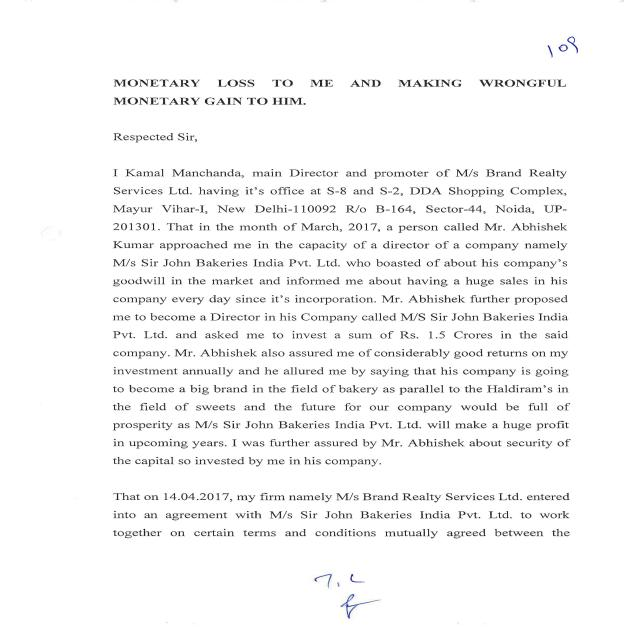page-number: (391, 3, 638, 76)
